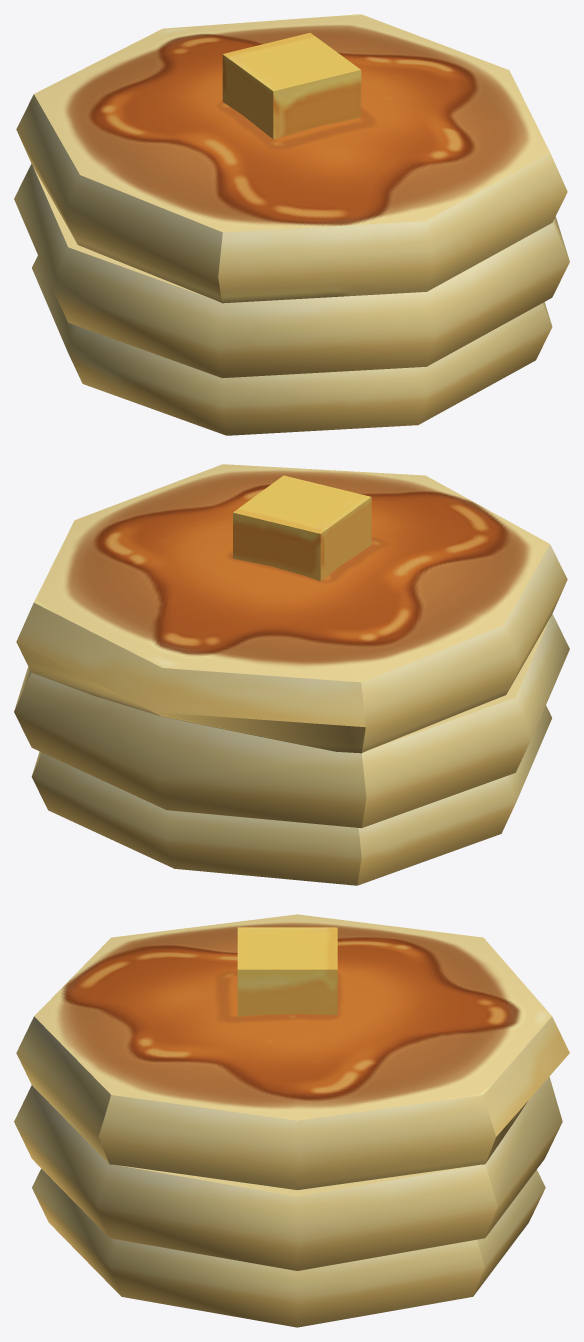
The model's file is pan cake.FBX.
The picture shows the model from 3 angles, top to bottom: view 1: azimuth 30°, elevation 25°; view 2: azimuth 150°, elevation 25°; view 3: azimuth 270°, elevation 25°; orthographic projection.
Parts seen in each view (by area): view 1: pan cake; view 2: pan cake; view 3: pan cake.
Boxes of the visible parts, left/top/right/bottom form: pan cake: left=14, top=14, right=569, bottom=435; pan cake: left=14, top=464, right=569, bottom=885; pan cake: left=14, top=914, right=569, bottom=1327.
Size of the model in its own units: 5.7 by 3.07 by 5.7.
